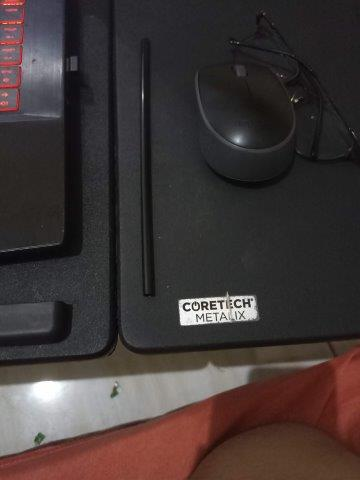sedotan: (139, 38, 153, 296)
